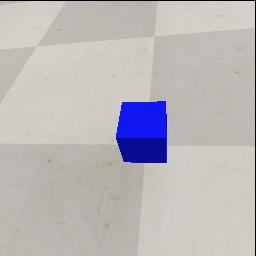box: (116, 101, 167, 163)
